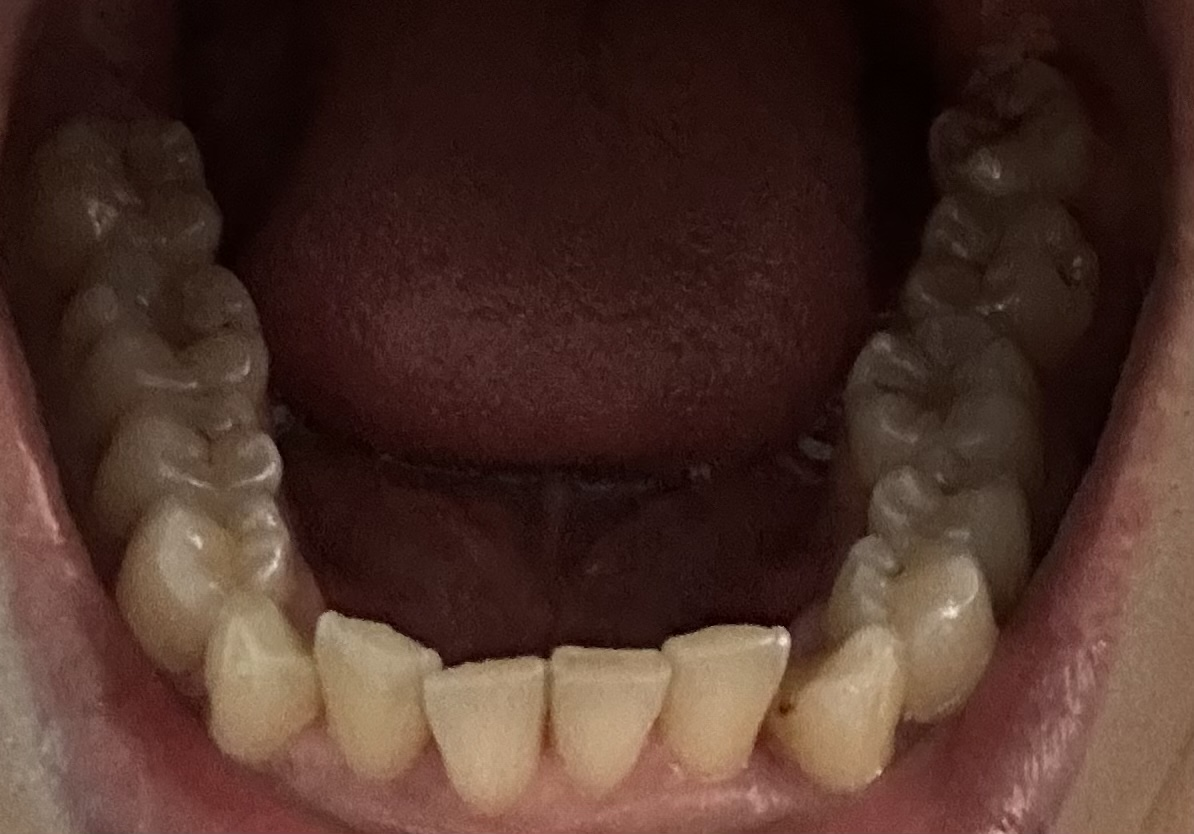teeth: (36, 254, 275, 454), (18, 95, 218, 304), (853, 313, 1048, 482), (113, 497, 293, 678), (824, 540, 992, 722), (913, 193, 1098, 350), (87, 408, 282, 538), (769, 630, 910, 793), (869, 478, 1042, 610), (940, 53, 1086, 188), (667, 628, 792, 781), (323, 610, 433, 780), (544, 646, 670, 793), (431, 656, 543, 820), (209, 604, 317, 760)
